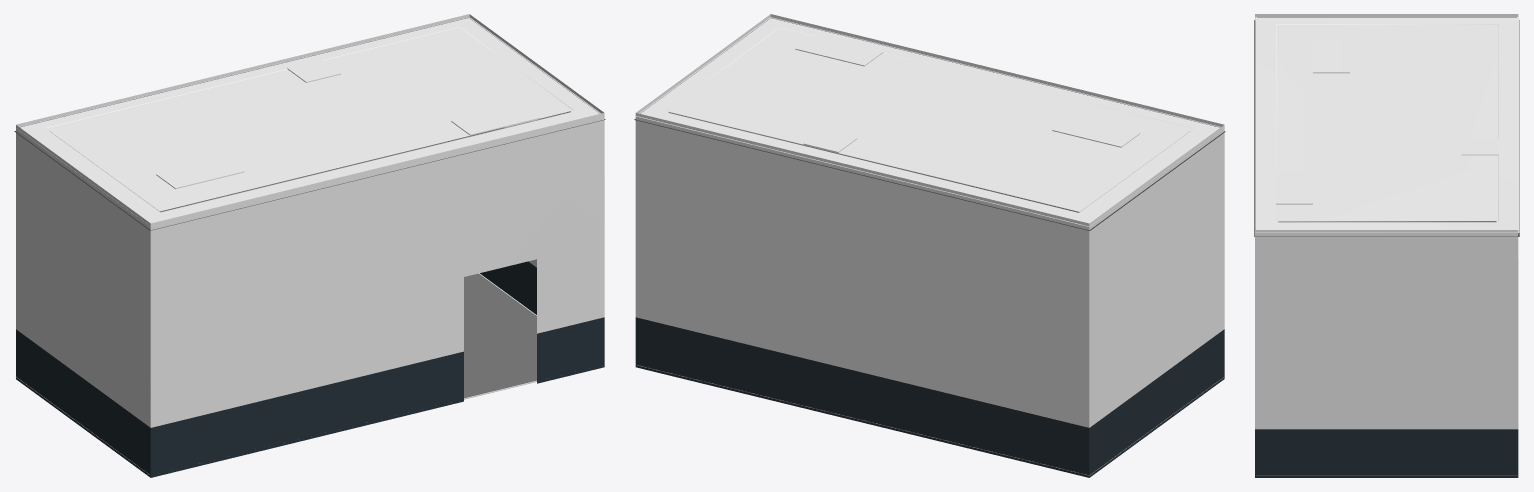
Rendered from SM_H_Building_Tide_OfficeLobby_03_ATLAS.fbx.
3 views of the same model, side by side, from view 1: azimuth 30°, elevation 25°; view 2: azimuth 150°, elevation 25°; view 3: azimuth 270°, elevation 25° (orthographic). The views are drawn at different scales.
Visible parts, largest first — view 1: SM_H_Building_Tide_OfficeLobby_03_ATLAS; view 2: SM_H_Building_Tide_OfficeLobby_03_ATLAS; view 3: SM_H_Building_Tide_OfficeLobby_03_ATLAS.
Part boxes in pixels (x1,y1,x2,y2): SM_H_Building_Tide_OfficeLobby_03_ATLAS: (14,14,605,477); SM_H_Building_Tide_OfficeLobby_03_ATLAS: (634,14,1225,477); SM_H_Building_Tide_OfficeLobby_03_ATLAS: (1254,14,1519,477).
Size of the model in its own units: 999 by 517 by 534.
